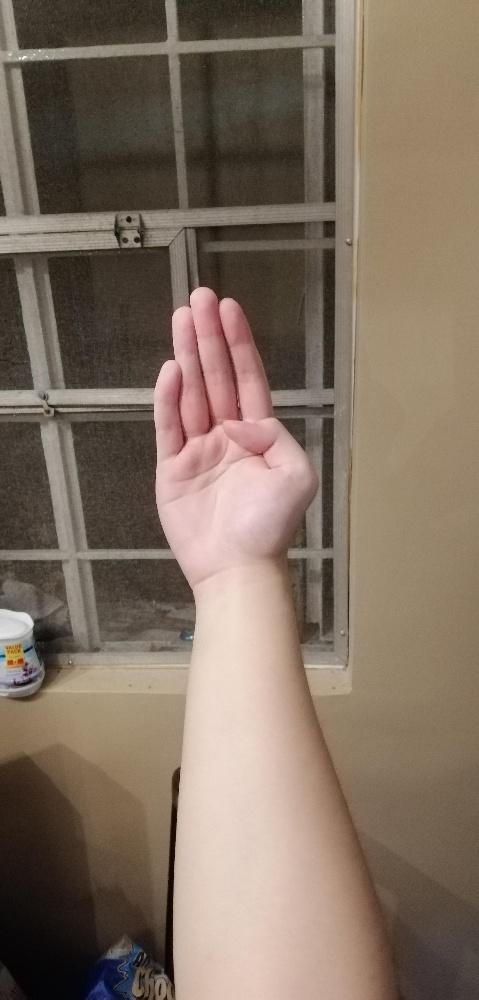b: (151, 283, 320, 551)
